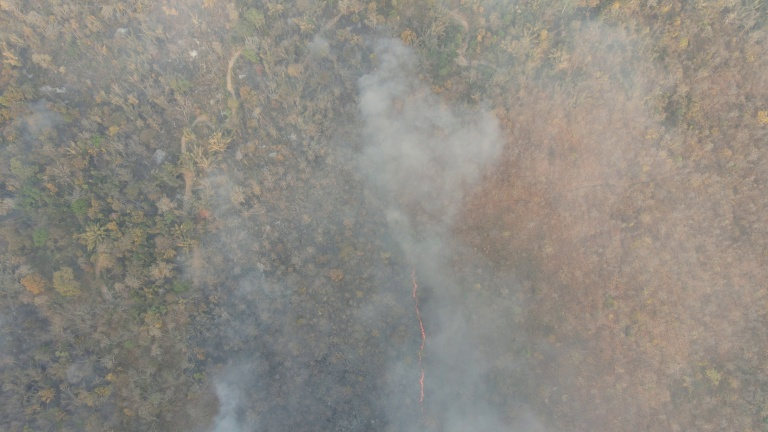fire: (405, 259, 436, 422)
smoke: (354, 56, 489, 234), (413, 255, 508, 432)
